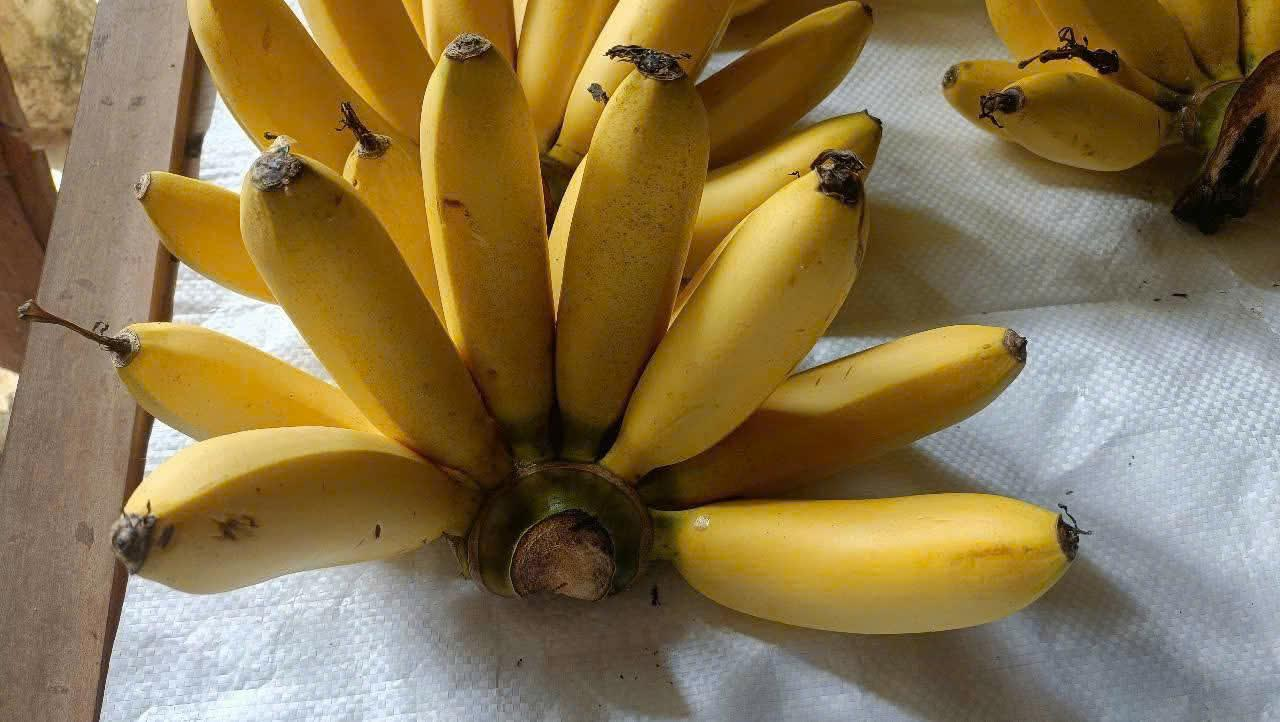banana: (640, 112, 1090, 641), (33, 92, 438, 639), (412, 18, 722, 463), (947, 0, 1251, 198)
